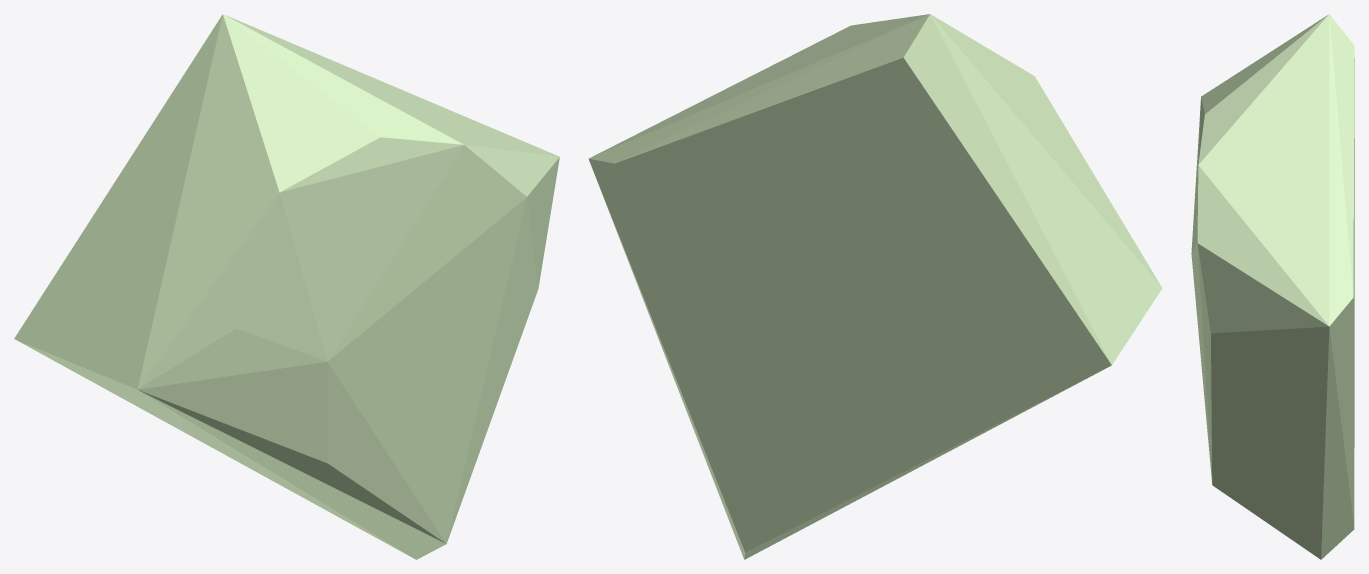
The model's file is kuka_robot_base_coll_9.dae.
3 views of the same model, side by side, from view 1: azimuth 30°, elevation 25°; view 2: azimuth 150°, elevation 25°; view 3: azimuth 270°, elevation 25° (orthographic). The views are drawn at different scales.
Parts seen in each view (by area): view 1: Node_0000015C5C913BC0; view 2: Node_0000015C5C913BC0; view 3: Node_0000015C5C913BC0.
Boxes of the visible parts, <box> form: Node_0000015C5C913BC0: <box>14,14,559,559</box>; Node_0000015C5C913BC0: <box>588,14,1162,559</box>; Node_0000015C5C913BC0: <box>1191,14,1354,559</box>.
Bounding box in the file's own units: 0.0393 × 0.0416 × 0.013.
